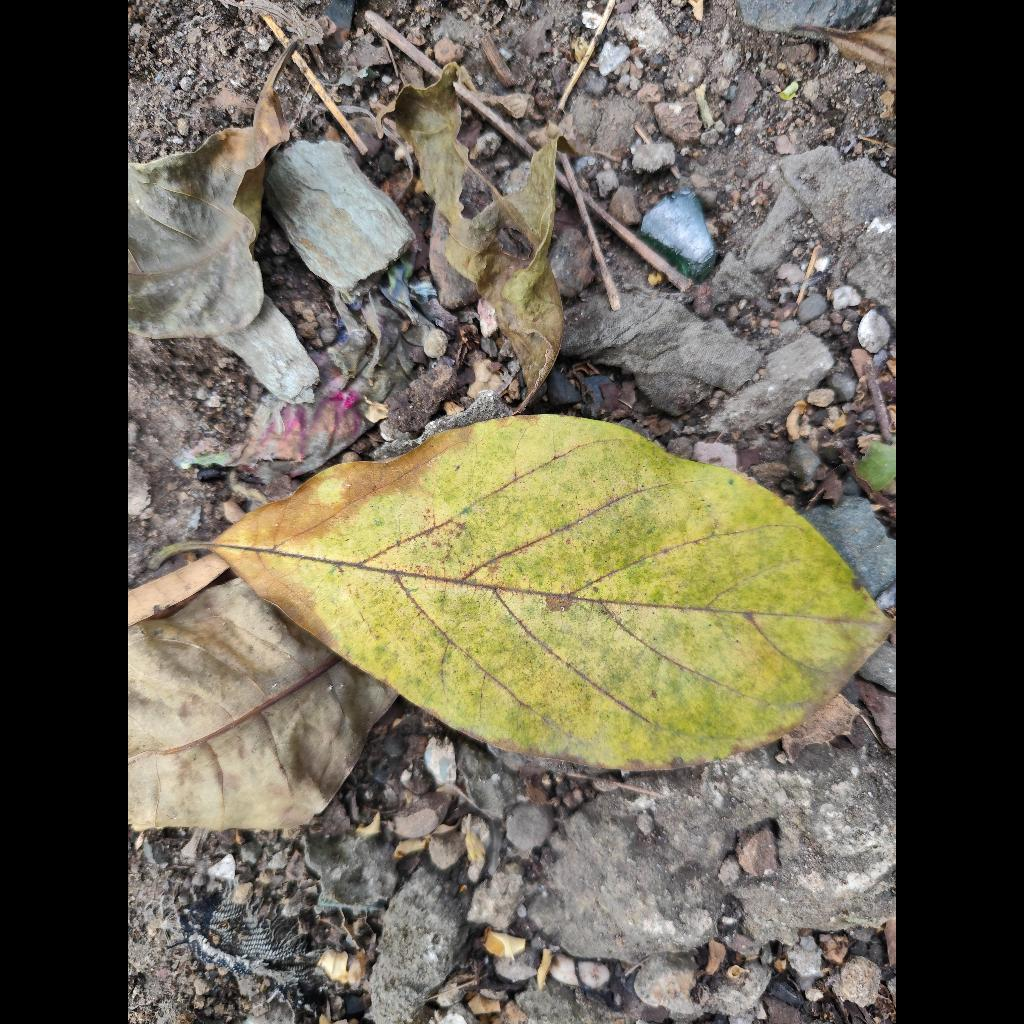deficiencia_nutricional: (210, 416, 889, 770)
